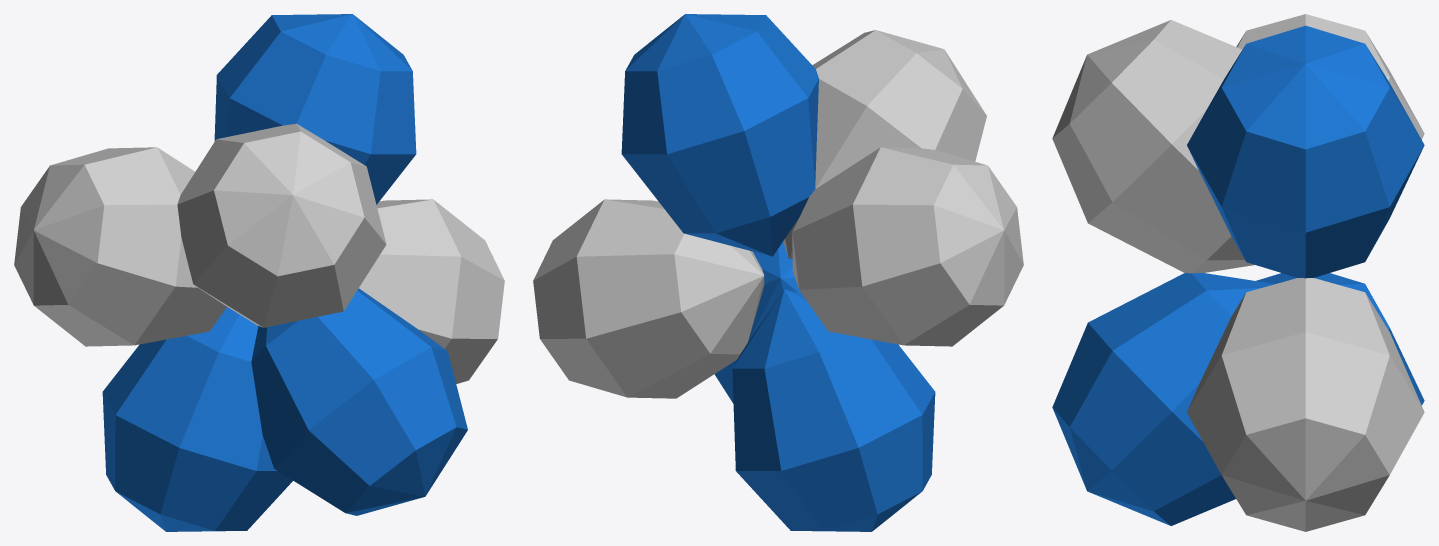
The model's file is SM_balls.fbx.
3 renders of one model, left to right at view 1: azimuth 30°, elevation 25°; view 2: azimuth 150°, elevation 25°; view 3: azimuth 270°, elevation 25°, orthographic. The views are drawn at different scales.
Parts seen in each view (by area): view 1: Sweep_3; view 2: Sweep_3; view 3: Sweep_3.
Boxes of the visible parts, x1,y1,x2,y2 form: Sweep_3: (14,14,504,531); Sweep_3: (533,14,1023,531); Sweep_3: (1052,14,1424,531).
Size of the model in its own units: 76 by 76 by 49.53.
